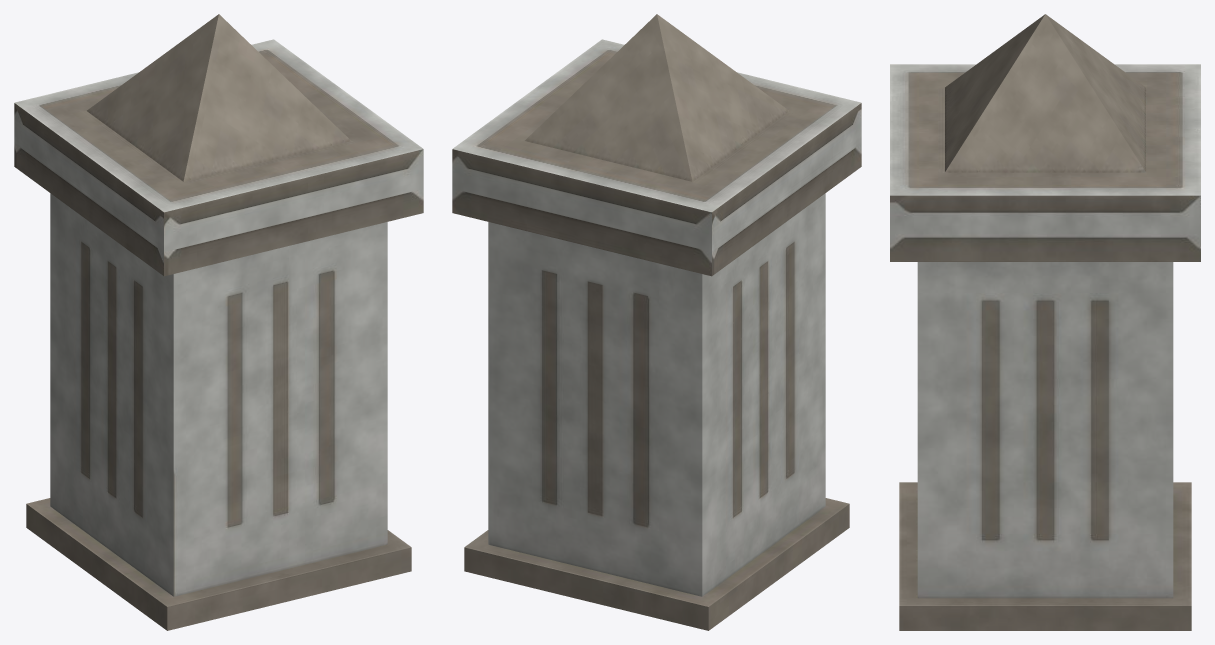
The model's file is charter_parapet_corner.glb.
3 views of the same model, side by side, from view 1: azimuth 30°, elevation 25°; view 2: azimuth 150°, elevation 25°; view 3: azimuth 270°, elevation 25° (orthographic). The views are drawn at different scales.
Parts seen in each view (by area): view 1: charter_parapet_corner; view 2: charter_parapet_corner; view 3: charter_parapet_corner.
Boxes of the visible parts, left/top/right/bottom form: charter_parapet_corner: left=14, top=14, right=423, bottom=630; charter_parapet_corner: left=452, top=14, right=861, bottom=630; charter_parapet_corner: left=890, top=14, right=1200, bottom=630.
Size of the model in its own units: 0.68 by 1.34 by 0.68.
Materials: 1 (1 with a texture image).
